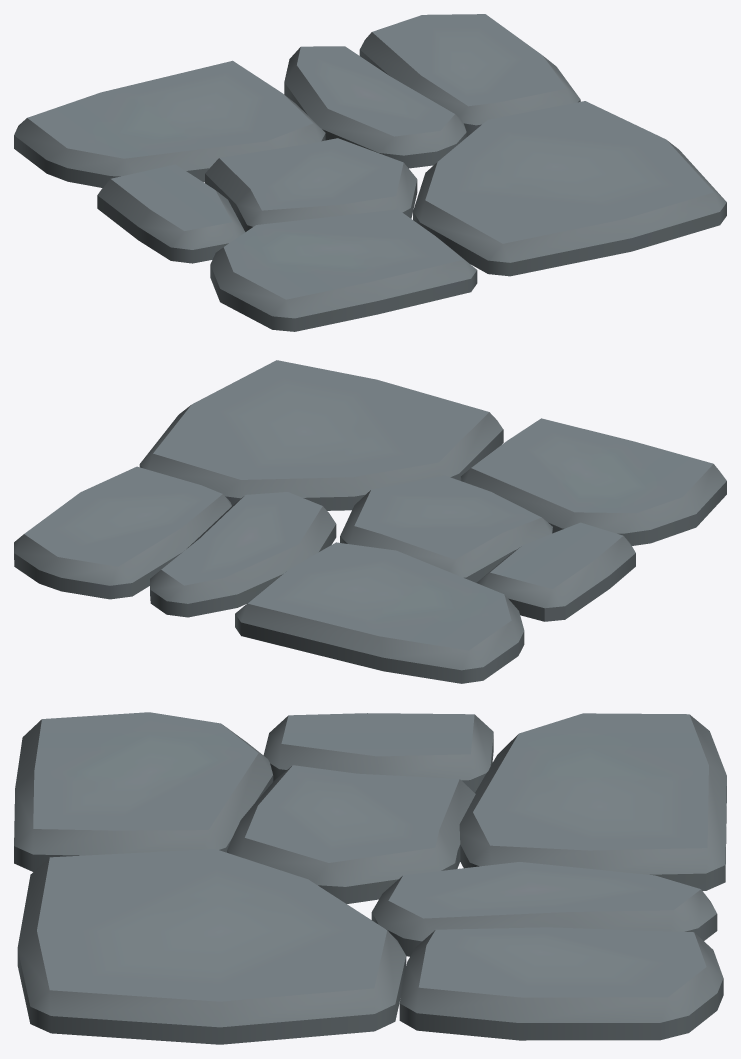
The model's file is path_b.glb.
3 renders of one model, top to bottom at view 1: azimuth 30°, elevation 25°; view 2: azimuth 150°, elevation 25°; view 3: azimuth 270°, elevation 25°, orthographic. The views are drawn at different scales.
Parts seen in each view (by area): view 1: path_B; view 2: path_B; view 3: path_B.
Part boxes in pixels (x1,y1,x2,y2): path_B: [14, 14, 726, 331]; path_B: [14, 360, 726, 683]; path_B: [14, 712, 726, 1044].
Bounding box in the file's own units: 1.89 × 0.0999 × 1.86.
1 material, 1 textured.
